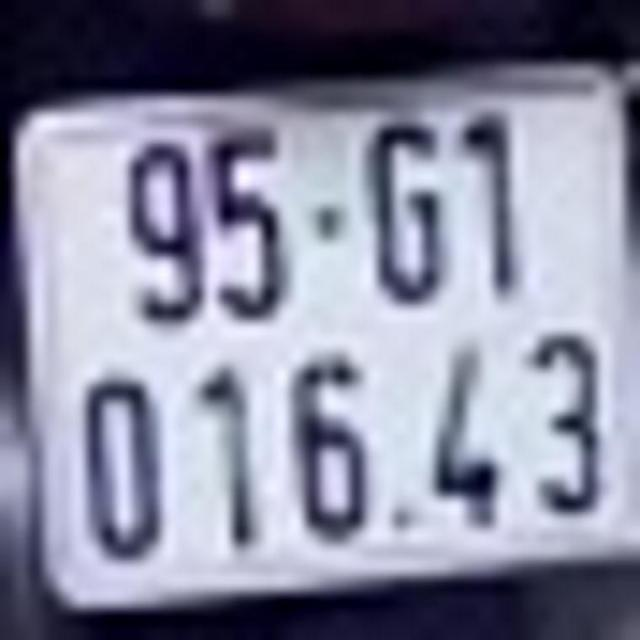0: (81, 364, 167, 566)
1: (189, 355, 271, 552), (460, 98, 520, 296)
3: (526, 315, 610, 520)
4: (427, 343, 504, 540)
5: (204, 115, 287, 322)
6: (287, 349, 379, 544)
9: (128, 136, 202, 328)
G: (367, 106, 442, 312)
